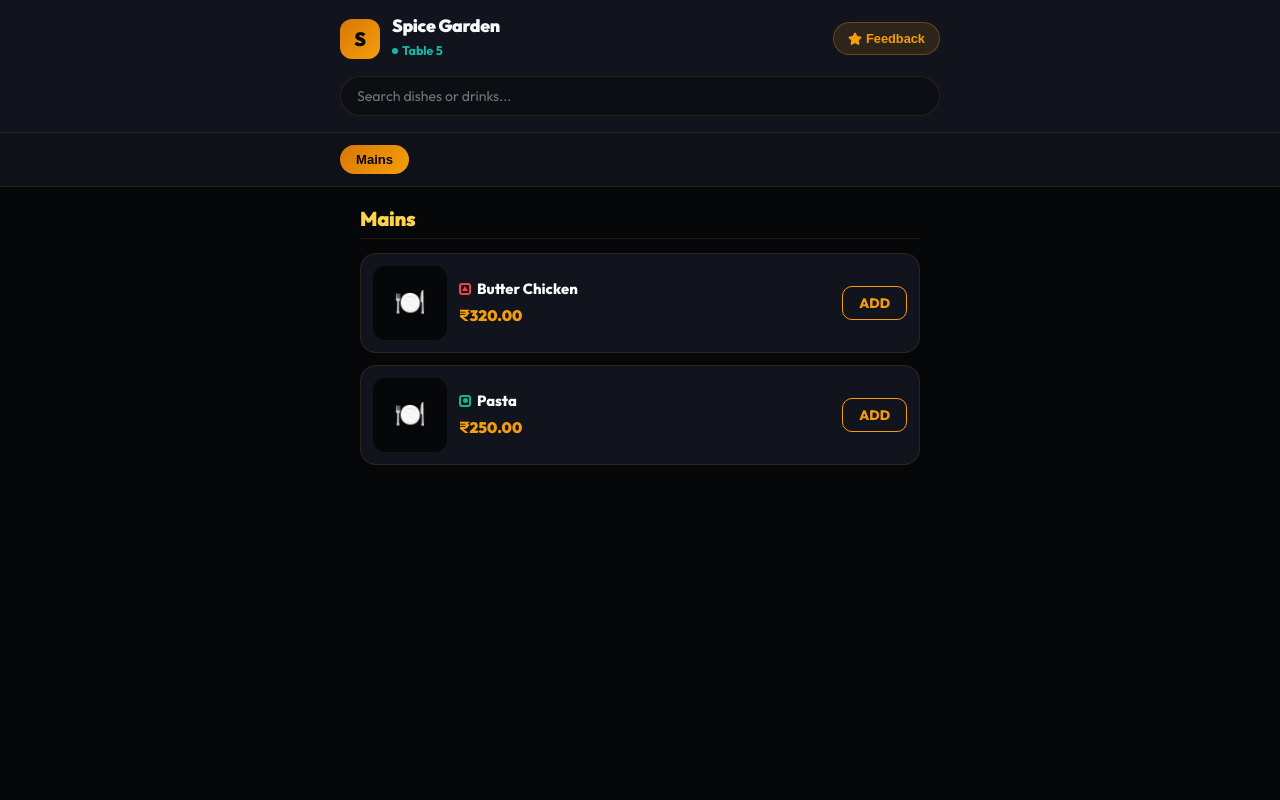
MenuView — guest ordering (frontend ↔ Firestore integration) › add → remove: the quantity stepper works off the real cart lib
The width and height of the screenshot is (1280, 800).
Expected: the text "Butter Chicken" is shown, [477,277,578,300]
Expected: the text "Pasta" is shown, [477,389,517,412]
What coordinates should you click on to do the following:
click the button "ADD" in the row of "Butter Chicken"
I would click on:
 (875, 303)
Its box is [842,286,907,320].
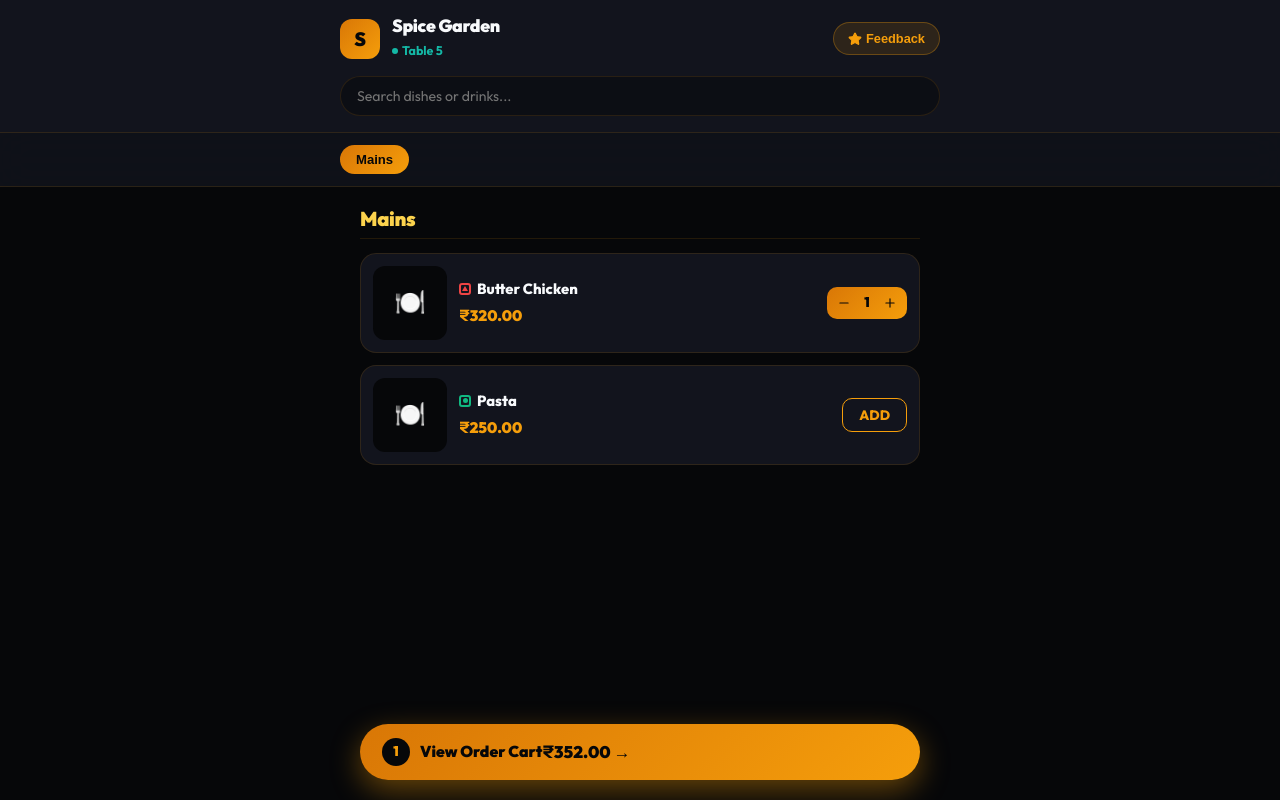
Result: the text "View Order Cart" is shown at [420,740,542,765]
Result: the text "₹352.00 →" is shown at [542,739,630,766]
